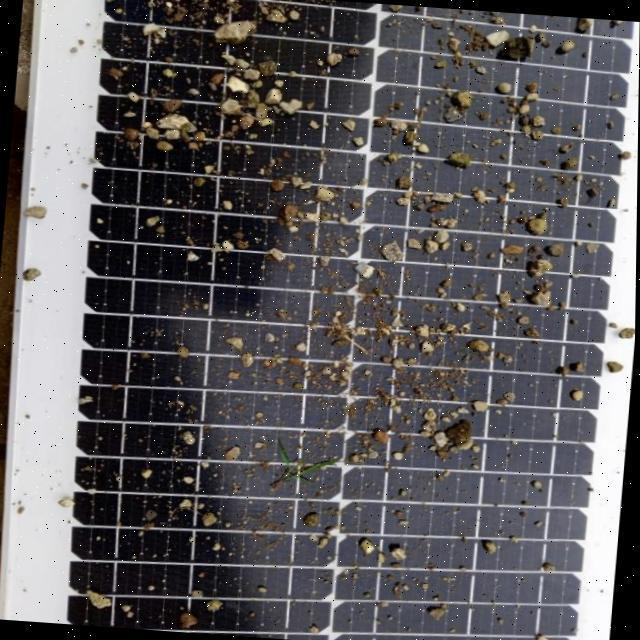Surface Contaminant: (10, 0, 640, 640)
